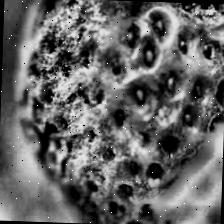Powdery Mildew Fruit: (13, 0, 224, 204)
